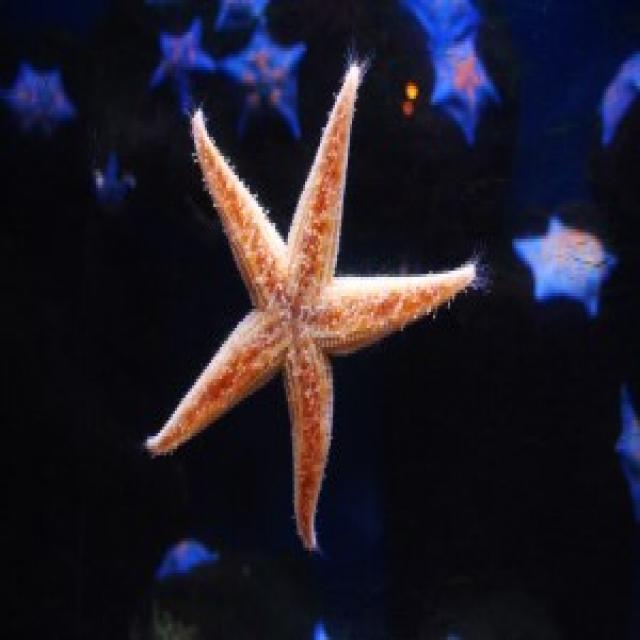Starfish: (139, 52, 480, 557), (507, 198, 621, 330), (220, 38, 314, 140), (412, 36, 506, 137), (0, 39, 79, 146), (134, 19, 217, 115), (75, 158, 129, 212)
